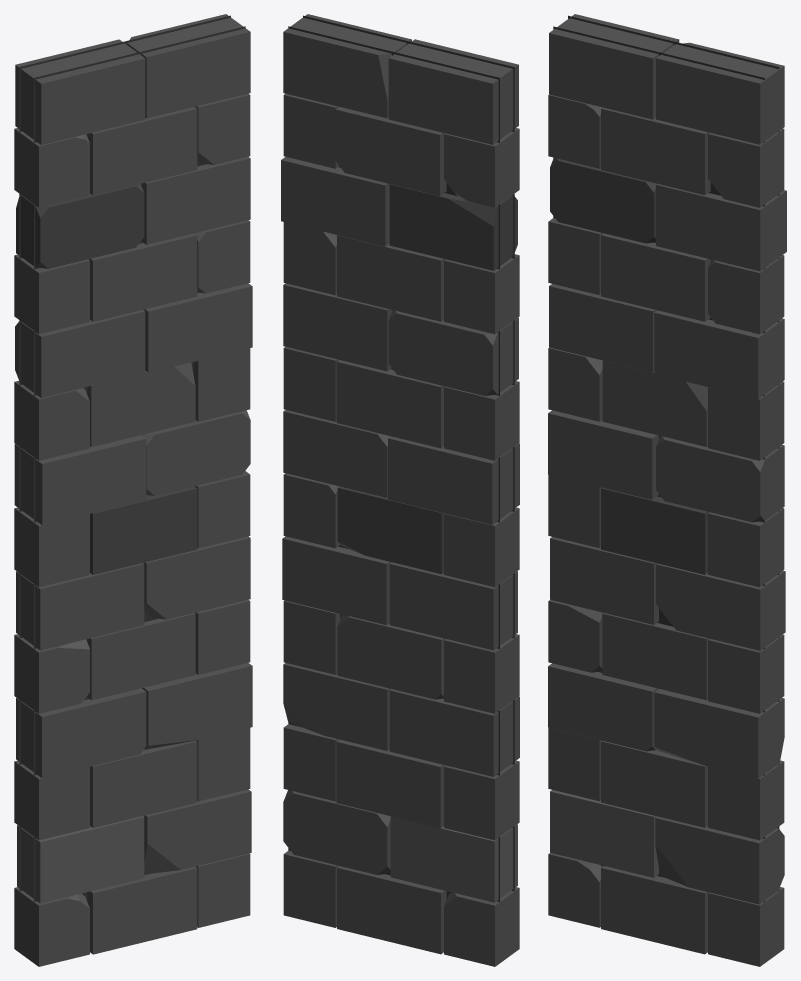
File: CastleWall_07.glb
3 renders of one model, left to right at view 1: azimuth 30°, elevation 25°; view 2: azimuth 150°, elevation 25°; view 3: azimuth 330°, elevation 25°, orthographic.
Visible parts, largest first — view 1: CastleWall_07_LOD0; view 2: CastleWall_07_LOD0; view 3: CastleWall_07_LOD0.
Part boxes in pixels (x1=…): CastleWall_07_LOD0: x1=14, y1=14, x2=252, y2=966; CastleWall_07_LOD0: x1=281, y1=14, x2=519, y2=966; CastleWall_07_LOD0: x1=548, y1=14, x2=786, y2=966.
Size of what is drawn, in the model's own units: 1.25 by 5 by 0.2924.
Materials: 1 (1 with a texture image).
